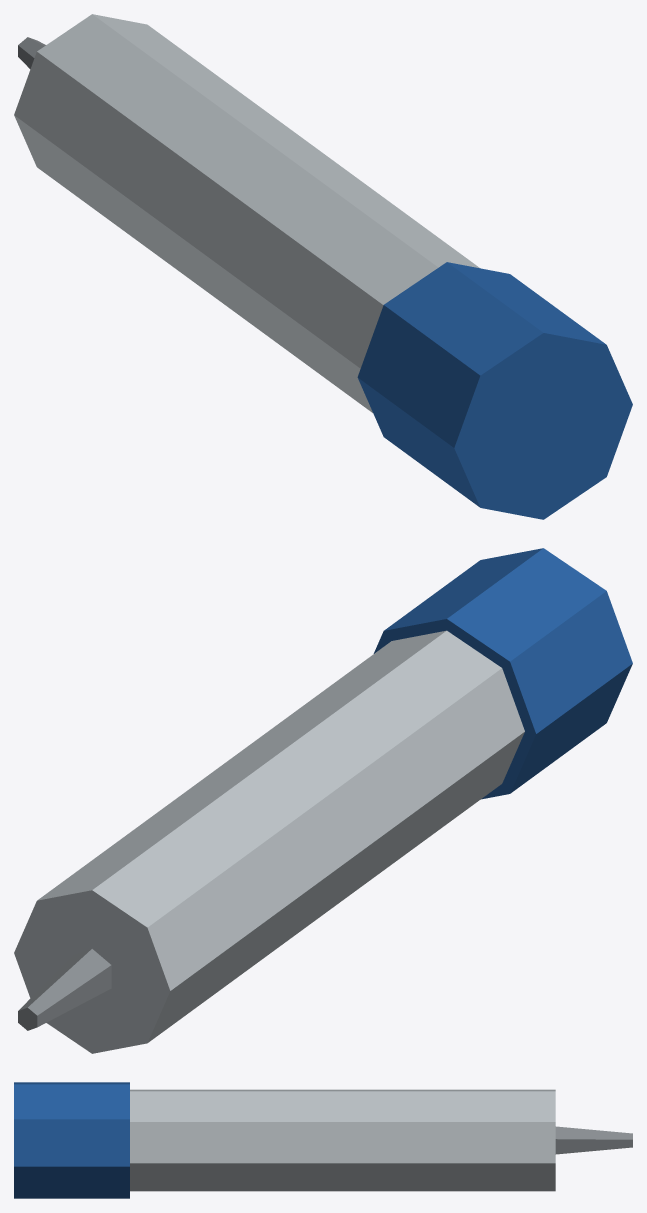
The model's file is neutrax.glb.
The picture shows the model from 3 angles, top to bottom: view 1: azimuth 30°, elevation 25°; view 2: azimuth 150°, elevation 25°; view 3: azimuth 270°, elevation 25°; orthographic projection. The views are drawn at different scales.
Parts seen in each view (by area): view 1: neutrax; view 2: neutrax; view 3: neutrax.
Boxes of the visible parts, <box> form: neutrax: <box>14,14,632,519</box>; neutrax: <box>14,548,632,1053</box>; neutrax: <box>14,1082,632,1198</box>.
Bounding box in the file's own units: 0.032 × 0.032 × 0.16.
